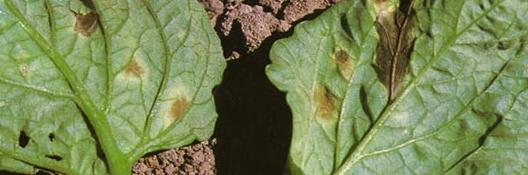Tomato mold leaf: (262, 0, 528, 175), (0, 0, 225, 175)
